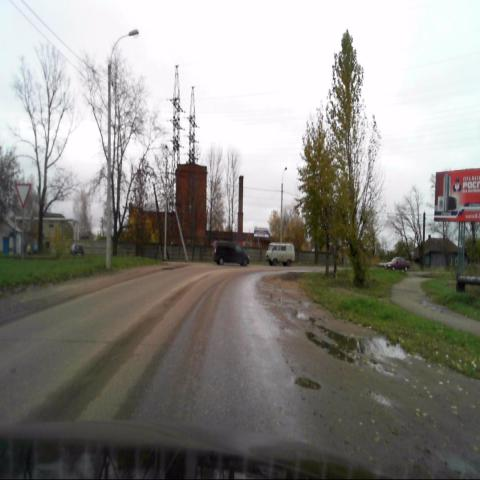2_4: (14, 181, 32, 209)
